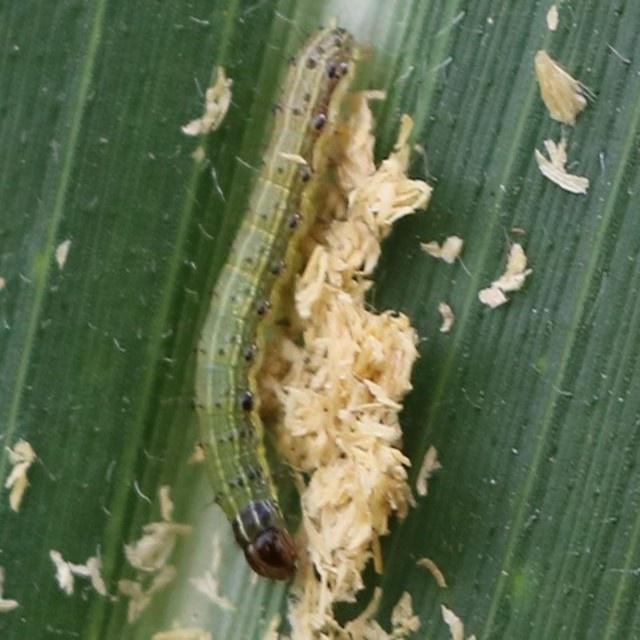gusano_cogollero: (185, 13, 368, 588)
